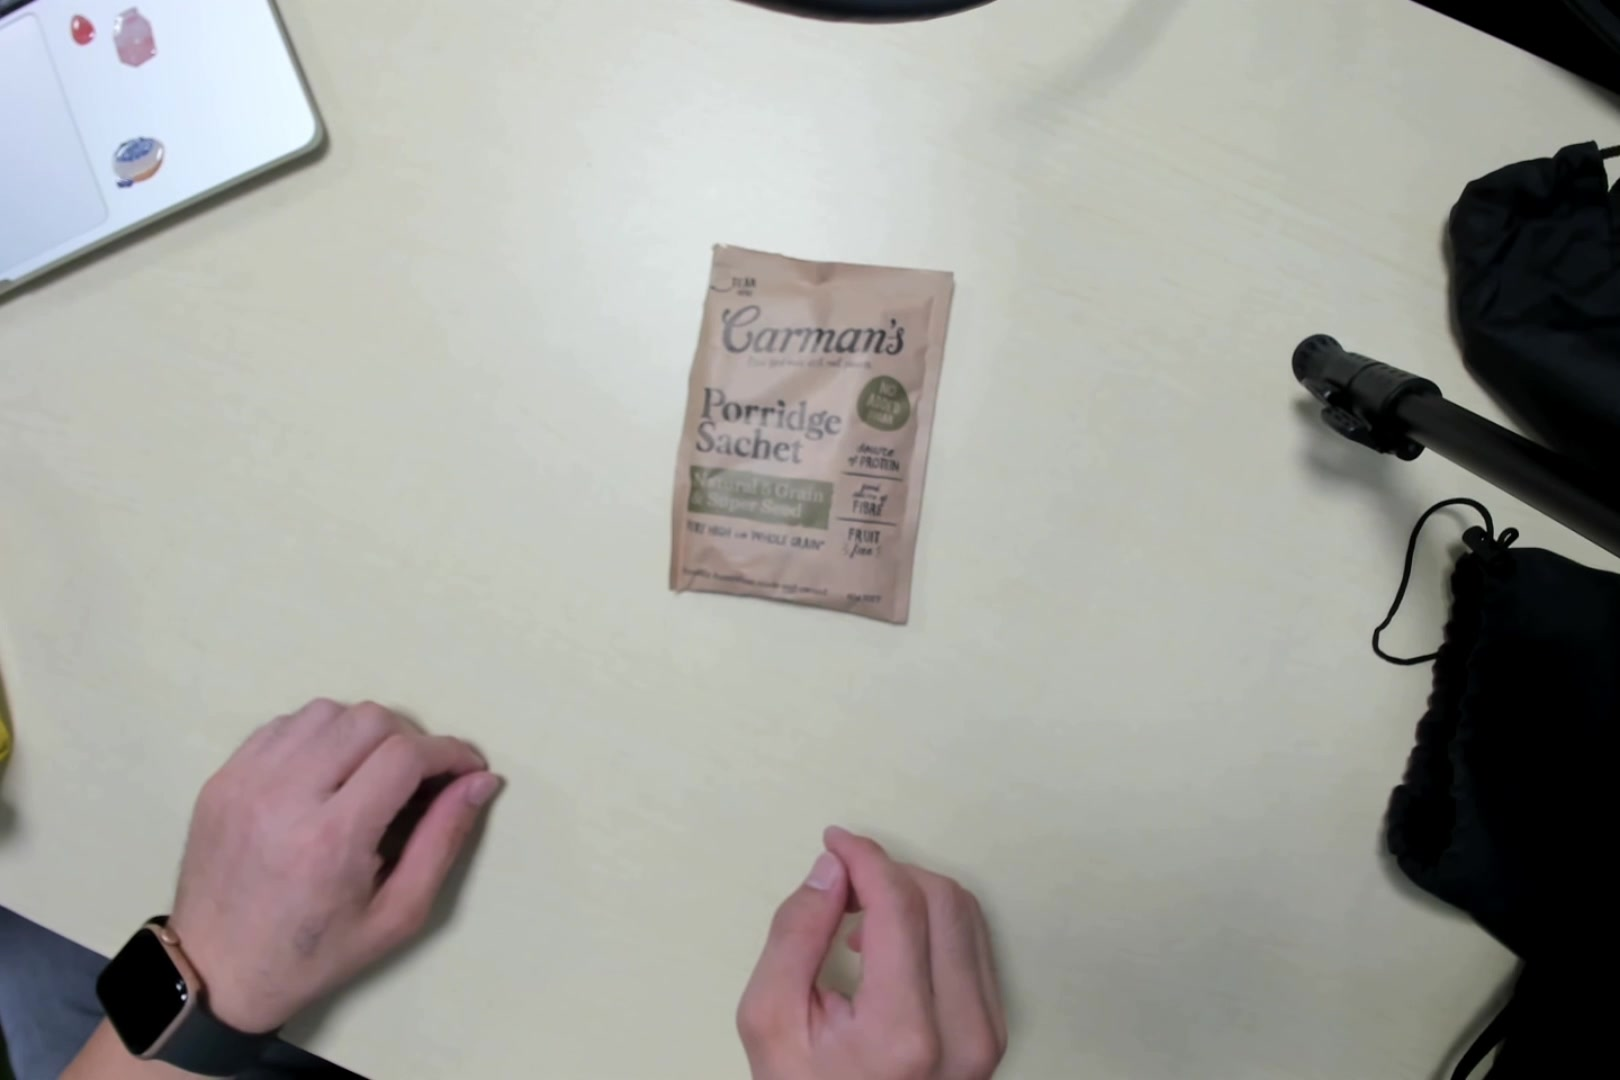InstantMeals_0-99g_NonHalal_NonHealthy: (663, 242, 950, 636)
